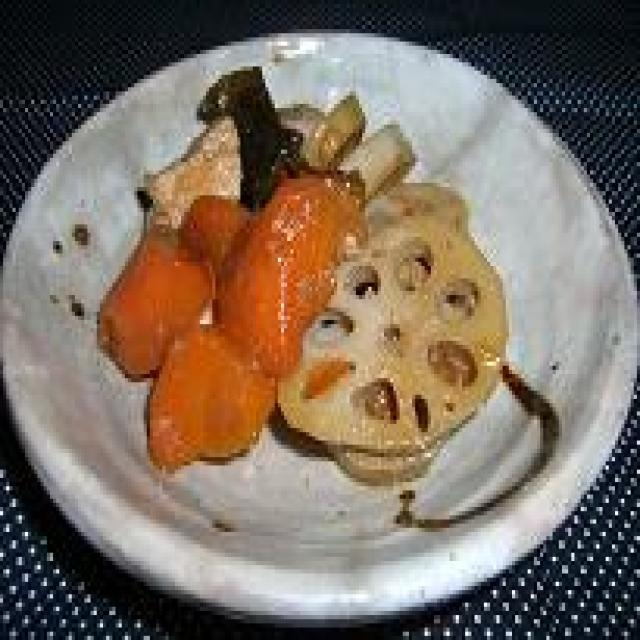鸡肉料理 含炸鸡: (87, 46, 512, 494)
